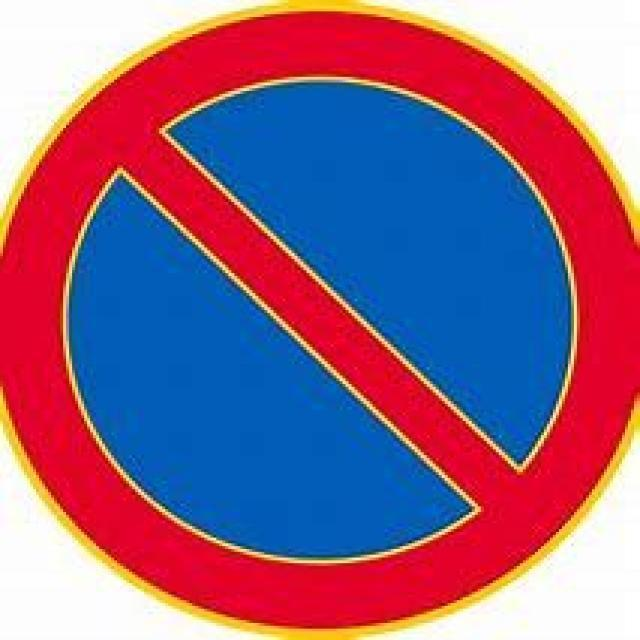no parking: (19, 18, 627, 624)
